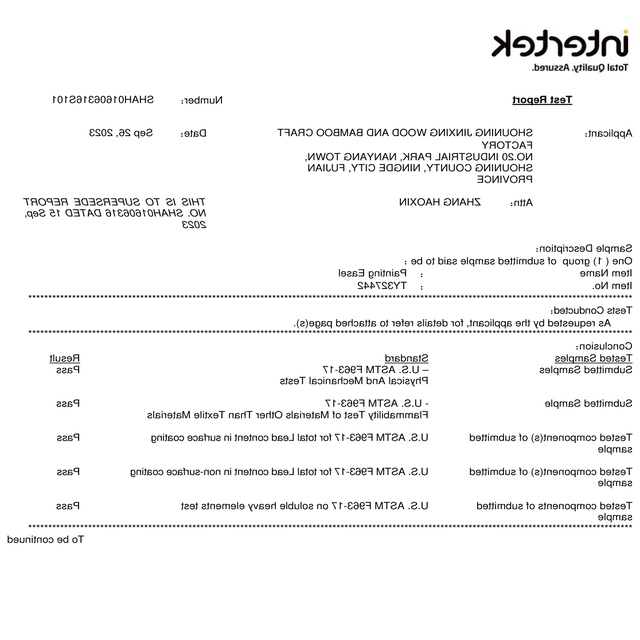intertek: (486, 27, 635, 62)
